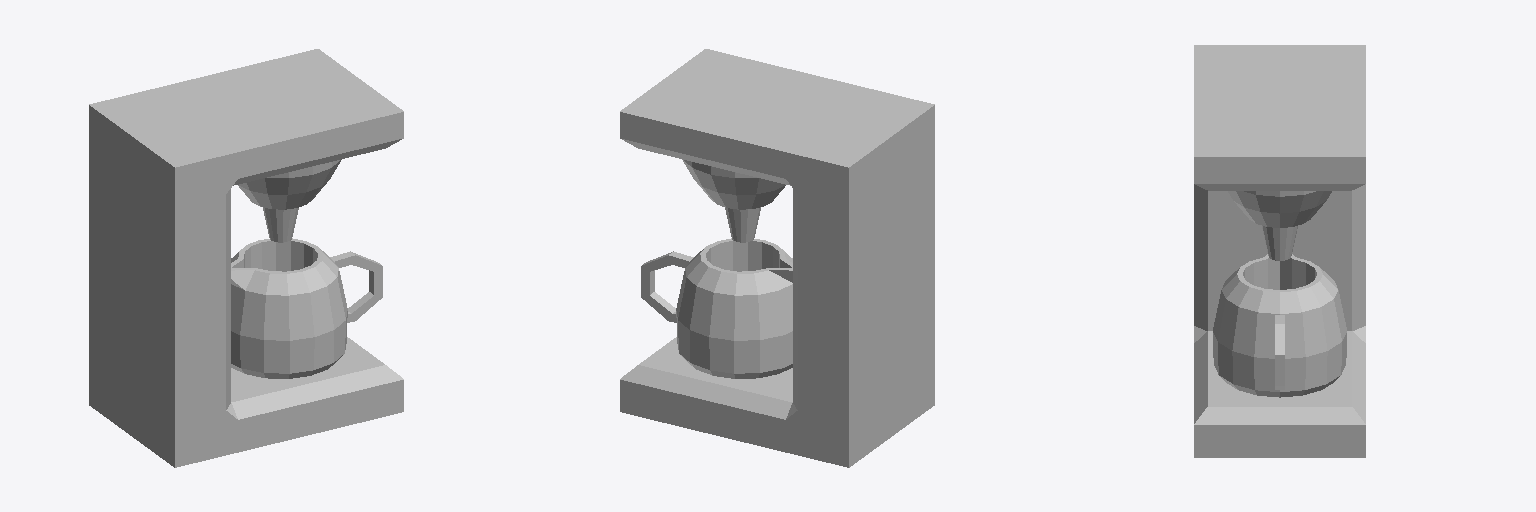
The model's file is CoffeeDrip.obj.
The picture shows the model from 3 angles: view 1: azimuth 30°, elevation 25°; view 2: azimuth 150°, elevation 25°; view 3: azimuth 270°, elevation 25°; orthographic projection.
Visible parts, largest first — view 1: CoffeeDrip, Pitcher; view 2: CoffeeDrip, Pitcher; view 3: CoffeeDrip, Pitcher.
Part boxes in pixels (bbox=[...]): CoffeeDrip: bbox=[89, 49, 403, 467]; Pitcher: bbox=[231, 238, 382, 378]; CoffeeDrip: bbox=[620, 49, 934, 467]; Pitcher: bbox=[641, 238, 792, 378]; CoffeeDrip: bbox=[1194, 45, 1365, 457]; Pitcher: bbox=[1213, 254, 1346, 397].
Bounding box in the file's own units: 216 × 250 × 130.